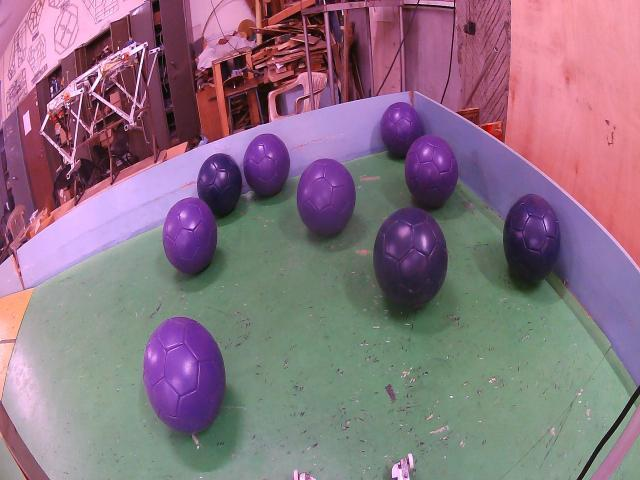jambhalya: (144, 317, 225, 433), (296, 158, 355, 235), (162, 198, 218, 273), (405, 135, 459, 207), (244, 133, 290, 197), (380, 102, 422, 157)
kaalyya: (372, 207, 448, 310), (504, 193, 560, 283), (196, 153, 242, 217)
